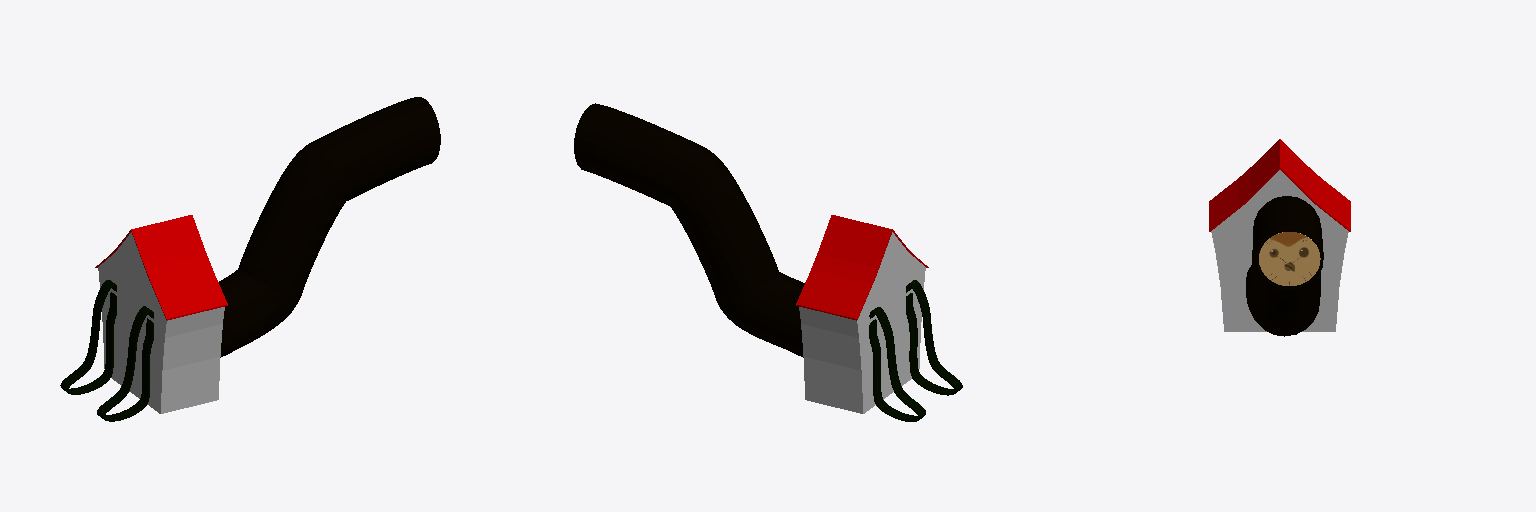
The picture shows the model from 3 angles: view 1: azimuth 30°, elevation 25°; view 2: azimuth 150°, elevation 25°; view 3: azimuth 270°, elevation 25°; orthographic projection.
Visible parts, largest first — view 1: BézierCurve.002, Cube, BézierCurve, BézierCurve.001; view 2: BézierCurve.002, Cube, BézierCurve.001, BézierCurve; view 3: Cube, BézierCurve.002, Cylinder.
Part boxes in pixels (bbox=[...]): BézierCurve.002: bbox=[219, 97, 440, 357]; Cube: bbox=[95, 215, 227, 413]; BézierCurve: bbox=[97, 306, 153, 421]; BézierCurve.001: bbox=[60, 280, 116, 394]; BézierCurve.002: bbox=[574, 103, 804, 357]; Cube: bbox=[796, 215, 928, 413]; BézierCurve.001: bbox=[869, 307, 925, 421]; BézierCurve: bbox=[906, 280, 962, 395]; Cube: bbox=[1209, 139, 1350, 331]; BézierCurve.002: bbox=[1246, 196, 1323, 336]; Cylinder: bbox=[1259, 232, 1320, 285].
Bounding box in the file's own units: 22.08 × 13.47 × 7.84.
6 materials, 1 textured.